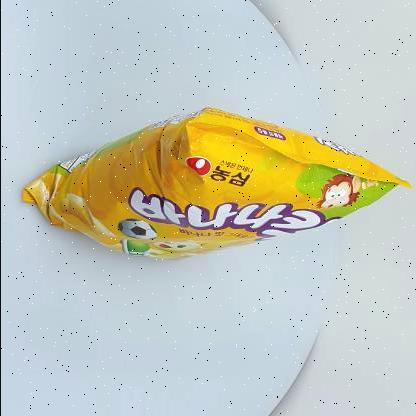Others: (15, 99, 415, 273)
